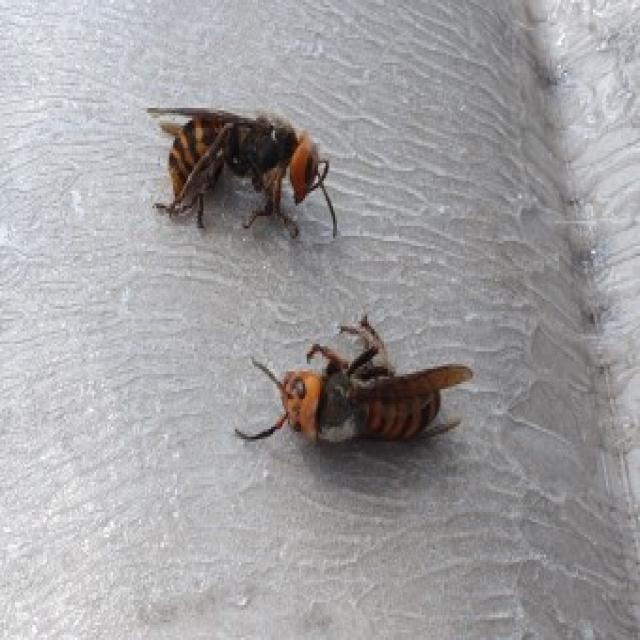Wasp: (253, 323, 481, 455), (154, 83, 336, 243)
